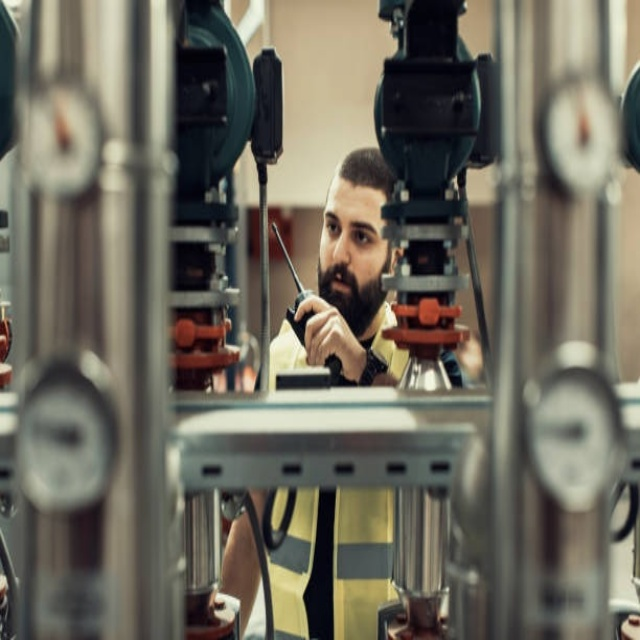Sin_gafas: (322, 204, 378, 245)
Sin_guantes: (292, 297, 360, 379)
Sin_mascara: (323, 260, 359, 296)
